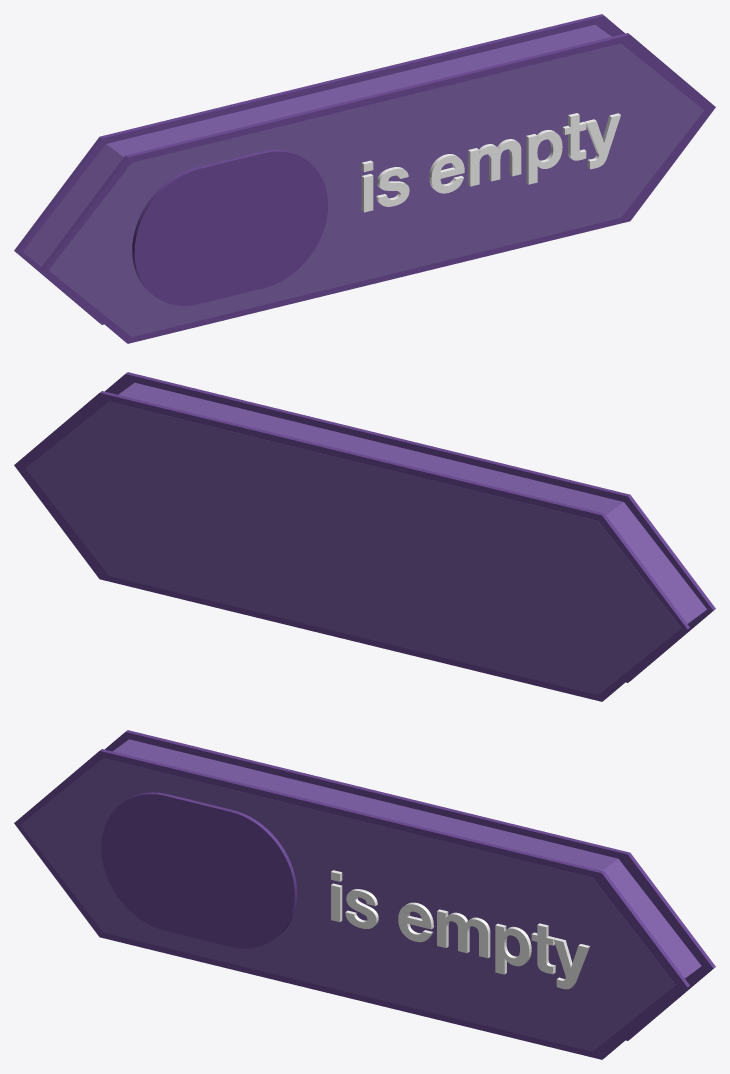
The model's file is lists_isEmpty.gltf.
3 views of the same model, one above another, from view 1: azimuth 30°, elevation 25°; view 2: azimuth 150°, elevation 25°; view 3: azimuth 330°, elevation 25° (orthographic).
Parts seen in each view (by area): view 1: Extrude.9, Extrude, Extrude.11, Extrude.8, Extrude.4, Extrude.3, Extrude.5, Extrude.1, Extrude.6, Extrude.2, Extrude.7; view 2: Extrude.9, Extrude.8, Extrude.11; view 3: Extrude.9, Extrude, Extrude.11, Extrude.8, Extrude.4, Extrude.3, Extrude.5, Extrude.1, Extrude.6, Extrude.2, Extrude.7.
Boxes of the visible parts, bbox=[...] form: Extrude.9: bbox=[23, 24, 703, 336]; Extrude: bbox=[132, 149, 327, 305]; Extrude.11: bbox=[40, 33, 715, 343]; Extrude.8: bbox=[14, 14, 624, 324]; Extrude.4: bbox=[468, 139, 521, 186]; Extrude.3: bbox=[526, 130, 562, 184]; Extrude.5: bbox=[429, 154, 464, 193]; Extrude.1: bbox=[585, 113, 620, 169]; Extrude.6: bbox=[376, 167, 409, 206]; Extrude.2: bbox=[562, 113, 586, 160]; Extrude.7: bbox=[361, 160, 373, 212]; Extrude.9: bbox=[26, 382, 706, 694]; Extrude.8: bbox=[14, 391, 689, 701]; Extrude.11: bbox=[105, 372, 715, 682]; Extrude.9: bbox=[20, 739, 701, 1051]; Extrude: bbox=[101, 792, 297, 948]; Extrude.11: bbox=[14, 749, 689, 1059]; Extrude.8: bbox=[105, 730, 715, 1040]; Extrude.4: bbox=[437, 909, 490, 958]; Extrude.3: bbox=[495, 923, 531, 974]; Extrude.5: bbox=[398, 902, 433, 942]; Extrude.1: bbox=[553, 938, 589, 989]; Extrude.6: bbox=[345, 889, 378, 928]; Extrude.2: bbox=[531, 923, 555, 974]; Extrude.7: bbox=[331, 870, 342, 922].
Size of the model in its own units: 0.818 by 0.2164 by 0.065.
